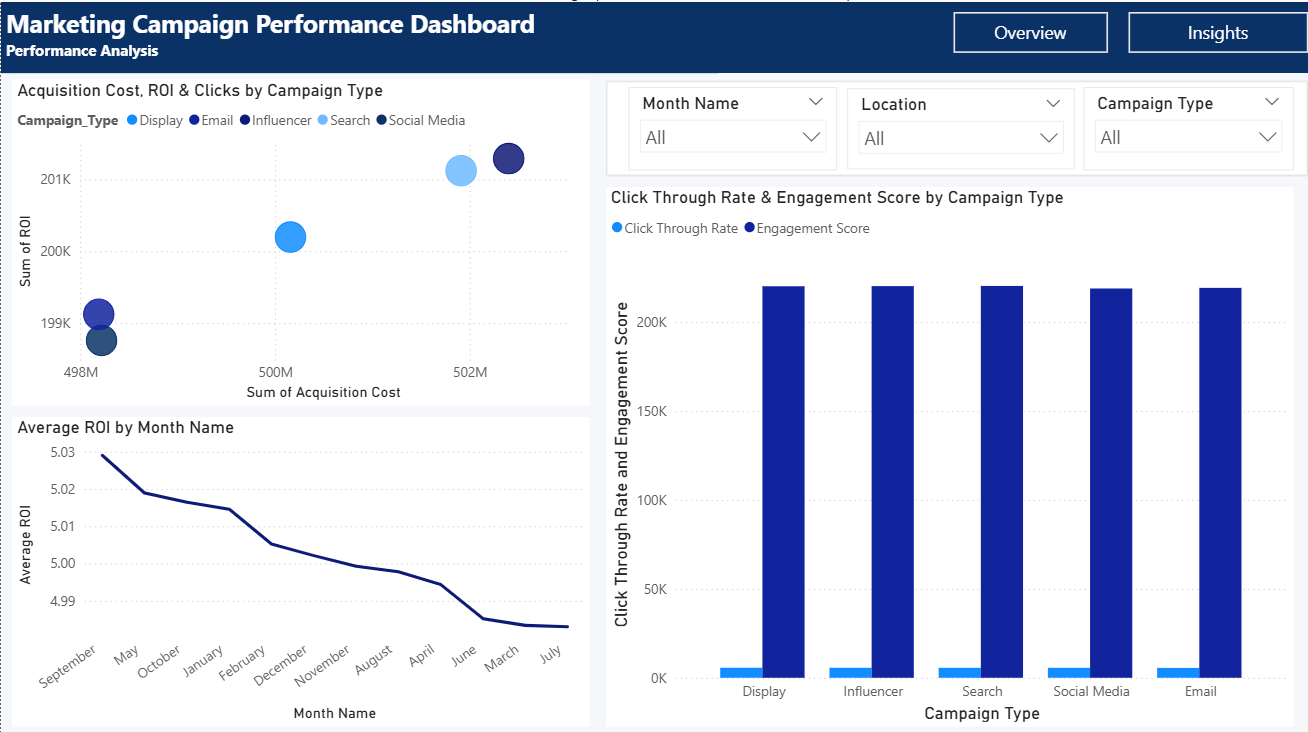

The page's visual inventory and layout, read from the dashboard file:
{"tool":"powerbi","page":{"name":"Page 2","canvas":[1280,720],"ordinal":1},"visuals":[{"type":"textbox","box":[0,0,700.5,69.7],"z":0,"group":"g2"},{"type":"shape","box":[591.9,77,686.9,93.8],"z":0,"group":"g1"},{"type":"lineChart","fields":{"Category":["cleaned_marketing_data.Month_Name"],"Y":["cleaned_marketing_data.Avg ROI"]},"box":[11,406,564.9,303.3],"z":0},{"type":"actionButton","box":[931.6,9.6,150.9,39.6],"z":1000,"group":"g2"},{"type":"slicer","fields":{"Values":["cleaned_marketing_data.Campaign_Type"]},"box":[1059.2,83.3,205.4,81.9],"z":1000,"group":"g1"},{"type":"clusteredColumnChart","title":"Click Through Rate & Engagement Score by Campaign Type","fields":{"Category":["cleaned_marketing_data.Campaign_Type"],"Y":["Sum(cleaned_marketing_data.click_through_rate)","Sum(cleaned_marketing_data.Engagement_Score)"]},"box":[591.9,181,672.6,528.3],"z":1000},{"type":"actionButton","box":[1103.3,9.6,175.8,39.6],"z":2000,"group":"g2"},{"type":"scatterChart","title":"Acquisition Cost, ROI & Clicks by Campaign Type","fields":{"X":["Sum(cleaned_marketing_data.Acquisition_Cost)"],"Y":["Sum(cleaned_marketing_data.ROI)"],"Size":["Sum(cleaned_marketing_data.Clicks)"],"Series":["cleaned_marketing_data.Campaign_Type"]},"box":[11,75.8,564.9,319.2],"z":2000},{"type":"slicer","fields":{"Values":["cleaned_marketing_data.Month_Name"]},"box":[614.1,83.3,204.2,81.9],"z":2000,"group":"g1"},{"type":"group","id":"g1","title":"Group 1","box":[591.9,77,687.2,94.2],"z":3000},{"type":"slicer","fields":{"Values":["cleaned_marketing_data.Location"]},"box":[828.1,84.6,222.6,79.5],"z":3000,"group":"g1"},{"type":"group","id":"g2","title":"Group 2","box":[0,0,1279.1,69.7],"z":4000}]}

Visuals, with their boxes in screenshot pixels (x1, y1, x2, y2), scaled from the page's 1280x720 canvas onto the 1308x732 screenshot:
textbox: Rect(0, 0, 716, 71)
shape: Rect(605, 78, 1307, 174)
lineChart - cleaned_marketing_data.Month_Name x cleaned_marketing_data.Avg ROI: Rect(11, 413, 588, 721)
actionButton: Rect(952, 10, 1106, 50)
slicer - cleaned_marketing_data.Campaign_Type: Rect(1082, 85, 1292, 168)
"Click Through Rate & Engagement Score by Campaign Type" clusteredColumnChart: Rect(605, 184, 1292, 721)
actionButton: Rect(1127, 10, 1307, 50)
"Acquisition Cost, ROI & Clicks by Campaign Type" scatterChart: Rect(11, 77, 588, 402)
slicer - cleaned_marketing_data.Month_Name: Rect(628, 85, 836, 168)
"Group 1" group: Rect(605, 78, 1307, 174)
slicer - cleaned_marketing_data.Location: Rect(846, 86, 1074, 167)
"Group 2" group: Rect(0, 0, 1307, 71)
